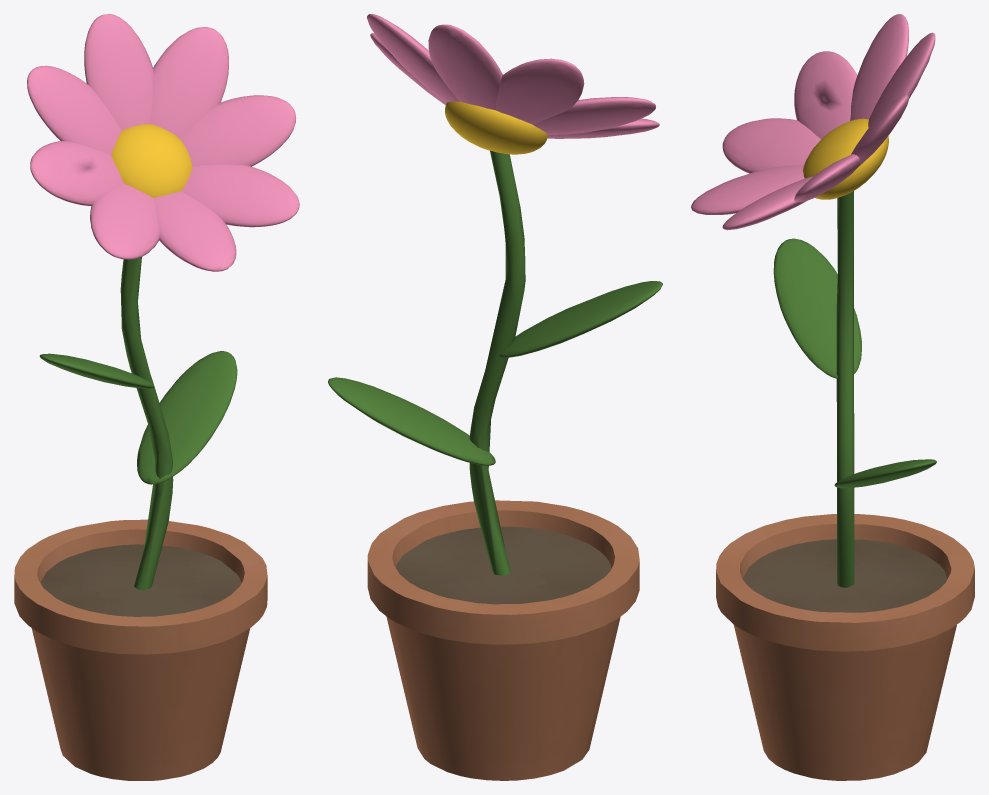
The model's file is blossom.glb.
The picture shows the model from 3 angles, left to right: view 1: azimuth 30°, elevation 25°; view 2: azimuth 150°, elevation 25°; view 3: azimuth 270°, elevation 25°; orthographic projection. The views are drawn at different scales.
Visible parts, largest first — view 1: blossom; view 2: blossom; view 3: blossom.
Part boxes in pixels (bbox=[...]): blossom: bbox=[14, 14, 299, 780]; blossom: bbox=[328, 14, 662, 780]; blossom: bbox=[691, 14, 974, 780].
Bounding box in the file's own units: 0.7879 × 2.01 × 0.7234.
Materials: 5 (2 with a texture image).
